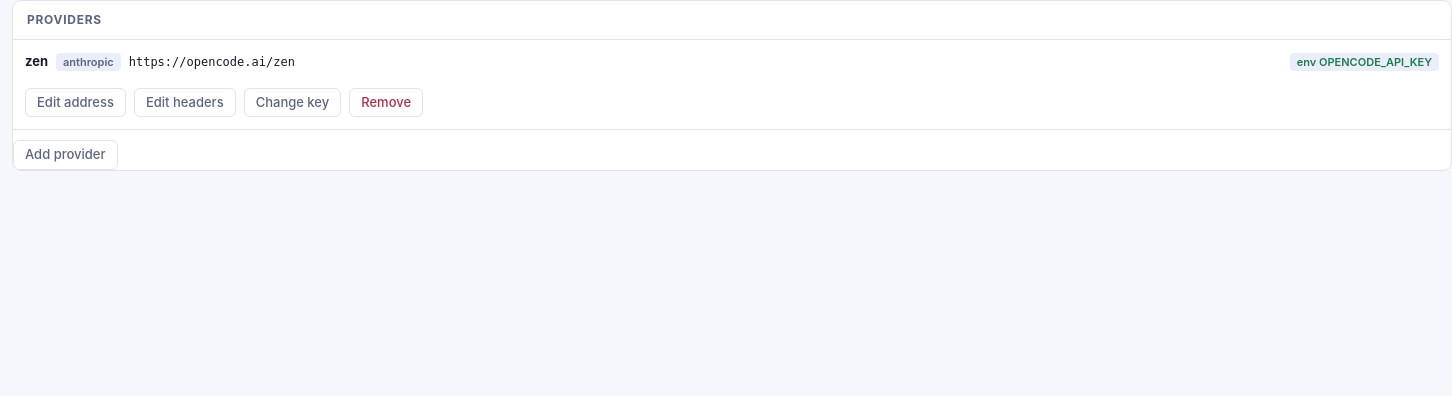
Test case: Providers — the extra-header editor › keeps at most one row editor open at a time
Click the button "Edit address": (75,102) [25, 88, 126, 117]
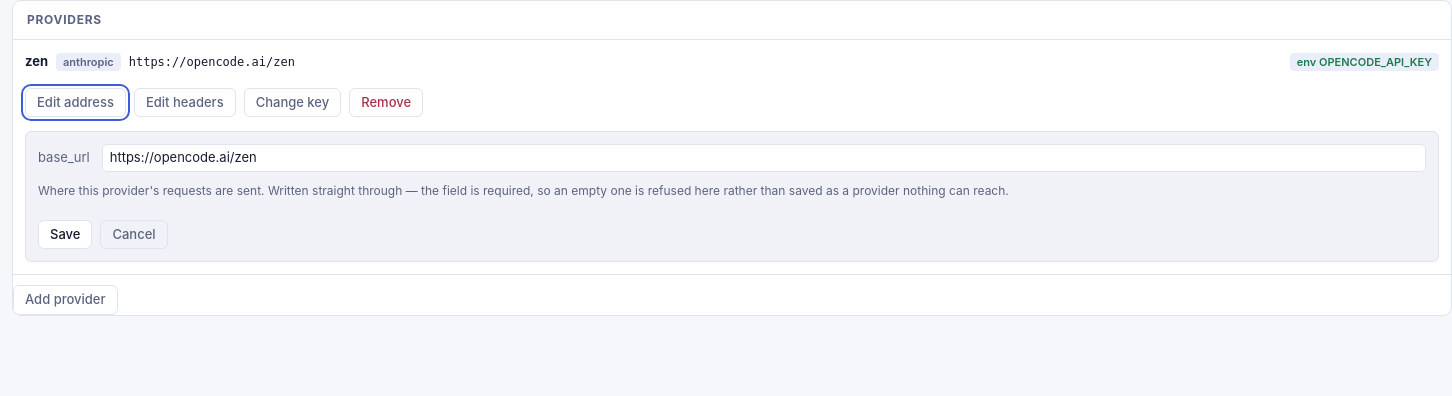
Click the button "Edit headers": (185,102) [134, 88, 236, 117]
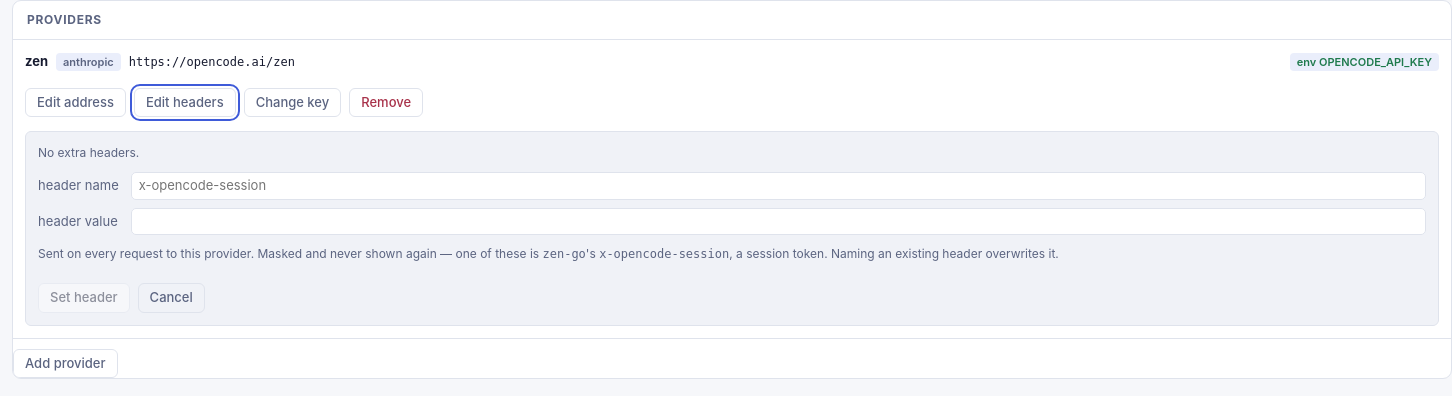
Check: the label labelled "base_url" is gone
Click the button "Change key": (292,102) [244, 88, 341, 117]
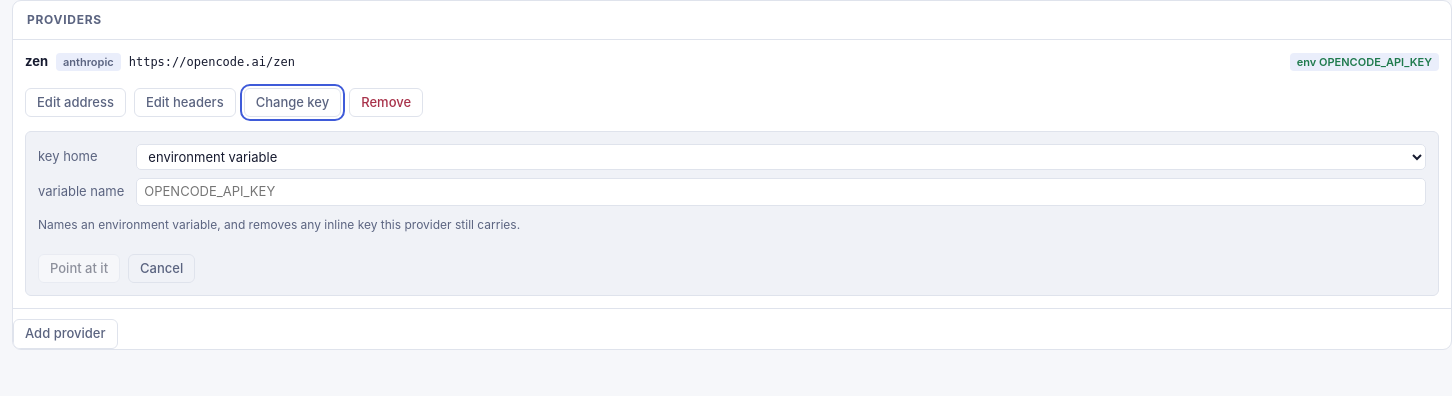
Check: the label labelled "header name" is gone
Check: the dropdown labelled "key home" is shown, box [136, 144, 1426, 170]
